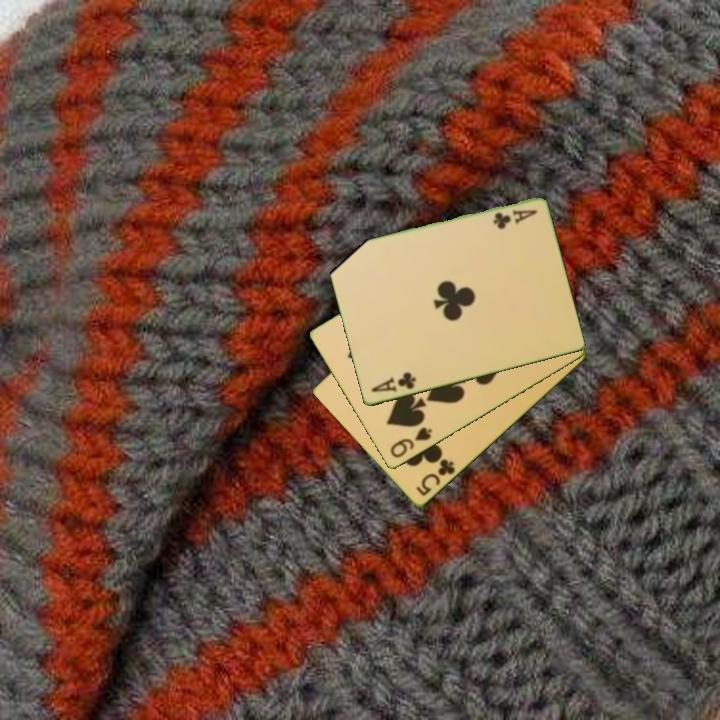5c: (413, 455, 458, 500)
9s: (386, 424, 435, 461)
Ac: (367, 369, 419, 395), (489, 206, 540, 232)
